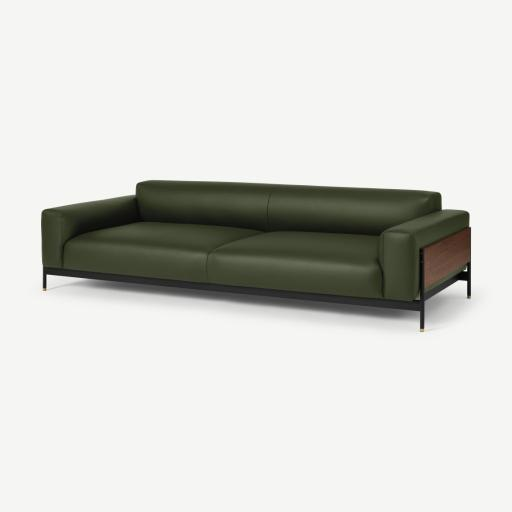back_cushion: (136, 181, 440, 235)
base: (44, 267, 424, 323), (425, 263, 470, 300)
left_arm: (378, 210, 468, 299)
legs: (412, 262, 470, 331), (43, 267, 94, 290)
right_arm: (42, 196, 137, 268)
seat_cushion: (63, 222, 383, 298)
two-seater: (0, 0, 511, 512)
